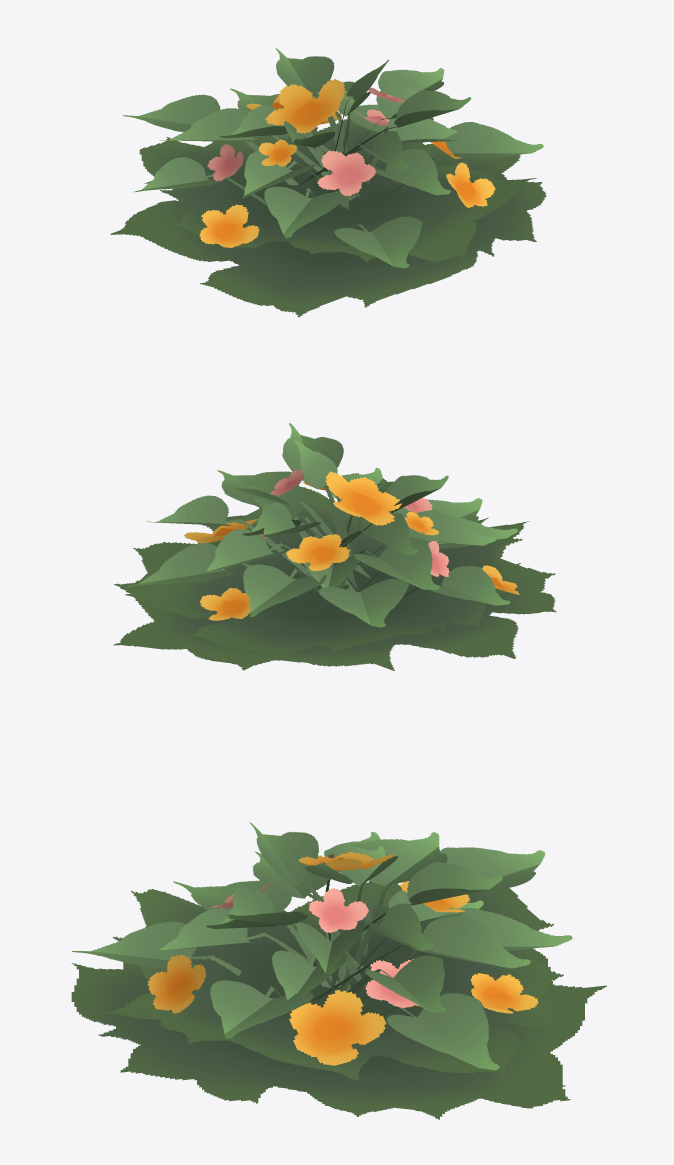
Rendered from plant_03.glb.
The picture shows the model from 3 angles, top to bottom: view 1: azimuth 30°, elevation 25°; view 2: azimuth 150°, elevation 25°; view 3: azimuth 270°, elevation 25°; orthographic projection. The views are drawn at different scales.
Visible parts, largest first — view 1: plant_03; view 2: plant_03; view 3: plant_03.
Boxes of the visible parts, <box> form: plant_03: <box>110,48,546,317</box>; plant_03: <box>113,423,556,670</box>; plant_03: <box>71,822,606,1119</box>.
Bounding box in the file's own units: 1.04 × 0.4713 × 1.04.
1 material, 1 textured.
